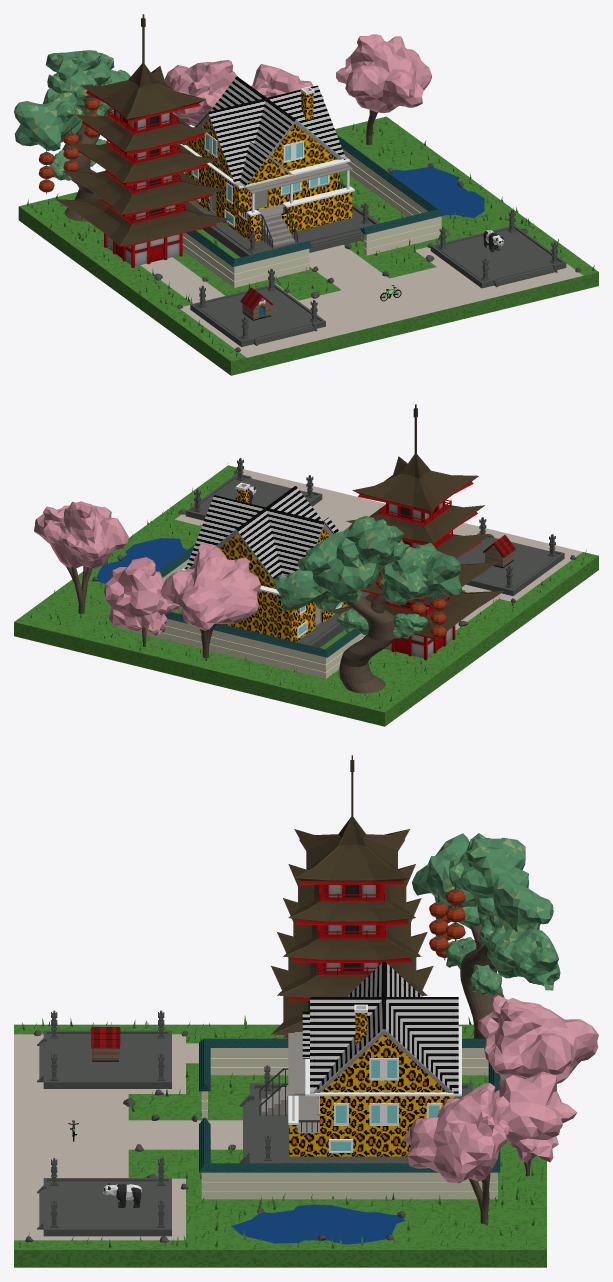
3 renders of one model, top to bottom at view 1: azimuth 30°, elevation 25°; view 2: azimuth 150°, elevation 25°; view 3: azimuth 270°, elevation 25°, orthographic. The views are drawn at different scales.
Visible parts, largest first — view 1: Cube.005, Cube.637, OBJRANDOM_DOGHOUSE; view 2: Cube.005, Cube.637, OBJRANDOM_DOGHOUSE; view 3: Cube.005, Cube.637, OBJRANDOM_DOGHOUSE.
Boxes of the visible parts, x1,y1,x2,y2 form: Cube.005: (14, 14, 598, 375); Cube.637: (179, 76, 354, 248); OBJRANDOM_DOGHOUSE: (240, 287, 273, 320); Cube.005: (14, 404, 598, 726); Cube.637: (181, 482, 347, 642); OBJRANDOM_DOGHOUSE: (483, 535, 515, 568); Cube.005: (14, 755, 598, 1267); Cube.637: (259, 961, 461, 1156); OBJRANDOM_DOGHOUSE: (90, 1027, 120, 1061).
Bounding box in the file's own units: 4528 × 2690 × 4389.
Materials: 39 (6 with a texture image).
